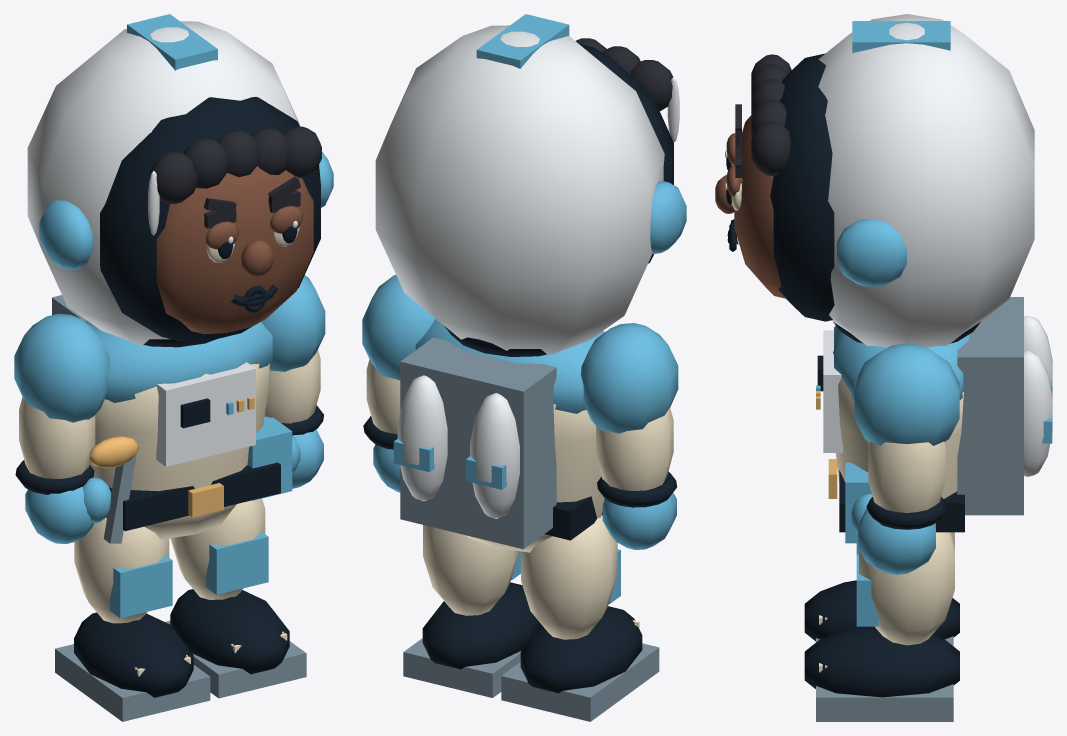
Rendered from crew-tunde.glb.
The picture shows the model from 3 angles, left to right: view 1: azimuth 30°, elevation 25°; view 2: azimuth 150°, elevation 25°; view 3: azimuth 270°, elevation 25°; orthographic projection. The views are drawn at different scales.
Visible parts, largest first — view 1: helmet-shell, face, visor-gasket, boot (×2), shoulder (×2), pressure-suit, leg-pressure (×2), curl (×5), sleeve (×2), chest-panel, shoulder-yoke, sole (×2) (+15 smaller); view 2: helmet-shell, life-pack, leg-pressure (×2), shoulder (×2), boot (×2), air-cell (×2), sole (×2), sleeve (×2), pressure-suit, glove (×2), shoulder-yoke, helmet-crown (+8 smaller); view 3: helmet-shell, life-pack, visor-gasket, boot (×2), shoulder, leg-pressure, sleeve, face, sole, air-cell (×2), helmet-hinge, glove (+9 smaller).
Part boxes in pixels (x1,y1,x2,y2): helmet-shell: [27, 21, 300, 347]; face: [156, 166, 313, 334]; visor-gasket: [100, 97, 320, 341]; boot (×2): [74, 589, 289, 697]; shoulder (×2): [14, 275, 325, 422]; pressure-suit: [90, 363, 269, 539]; leg-pressure (×2): [74, 498, 265, 623]; curl (×5): [149, 126, 321, 203]; sleeve (×2): [19, 349, 320, 478]; chest-panel: [156, 362, 255, 466]; shoulder-yoke: [87, 321, 272, 402]; sole (×2): [55, 620, 306, 721]; helmet-shell: [375, 25, 664, 357]; life-pack: [400, 337, 556, 549]; leg-pressure (×2): [423, 515, 617, 639]; shoulder (×2): [362, 274, 678, 433]; boot (×2): [422, 582, 642, 693]; air-cell (×2): [397, 375, 519, 518]; sole (×2): [403, 638, 659, 721]; sleeve (×2): [366, 359, 673, 490]; pressure-suit: [466, 404, 604, 552]; glove (×2): [373, 444, 676, 549]; shoulder-yoke: [415, 319, 604, 413]; helmet-crown: [476, 14, 569, 68]; helmet-shell: [818, 14, 1034, 347]; life-pack: [957, 297, 1023, 515]; visor-gasket: [770, 53, 834, 321]; boot (×2): [804, 580, 959, 697]; shoulder: [854, 343, 959, 445]; leg-pressure: [859, 532, 954, 645]; sleeve: [868, 441, 945, 512]; face: [734, 115, 786, 298]; sole: [816, 684, 953, 721]; air-cell (×2): [1024, 315, 1052, 477]; helmet-hinge: [837, 219, 906, 286]; glove: [858, 509, 935, 574].
Size of the model in its own units: 1.43 by 2.91 by 1.37.
